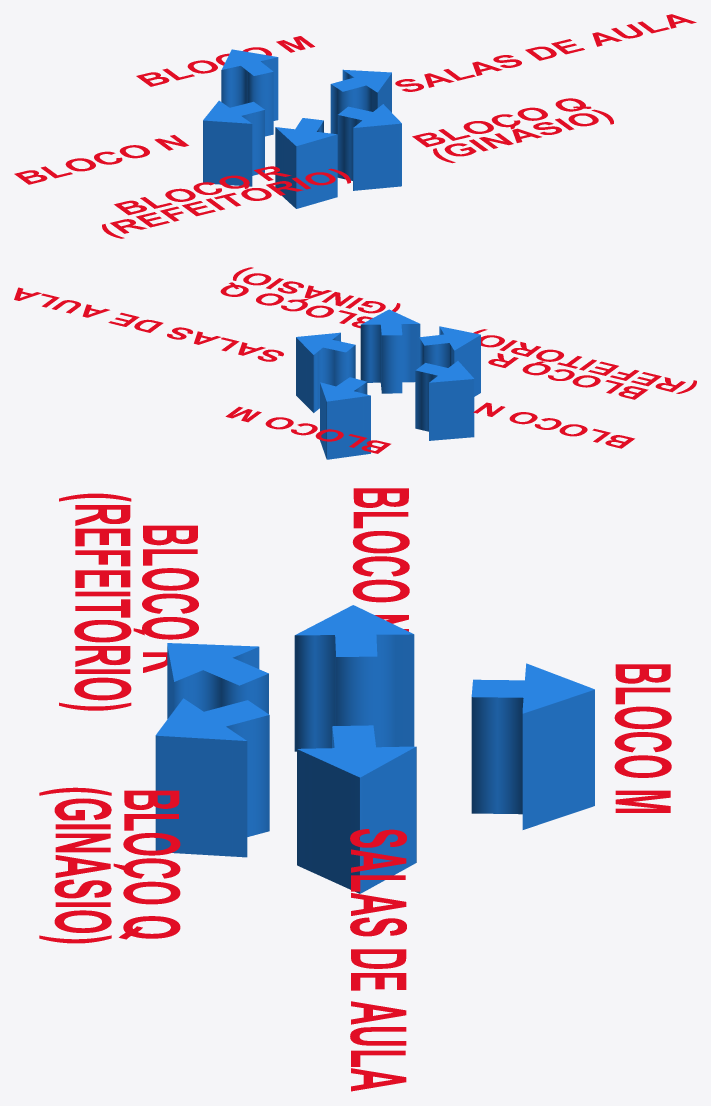
Rendered from Bloco N - 1.glb.
The picture shows the model from 3 angles, top to bottom: view 1: azimuth 30°, elevation 25°; view 2: azimuth 150°, elevation 25°; view 3: azimuth 270°, elevation 25°; orthographic projection. The views are drawn at different scales.
Visible parts, largest first — view 1: Curve.001, Curve.002, Curve.003, Curve.004, Curve.005, Text.012, Text.005, Text.014, Text.002, Text.004, Text.003, Text.001; view 2: Curve.002, Curve.001, Curve.004, Curve.005, Curve.003, Text.012, Text.005, Text.014, Text.001, Text.004, Text.003, Text.002; view 3: Curve.004, Curve.001, Curve.005, Curve.002, Text.012, Text.005, Curve.003, Text.014, Text.001, Text.002, Text.004, Text.003.
Part boxes in pixels (<box>): Curve.001: <box>337,104,401,190</box>; Curve.002: <box>203,100,264,186</box>; Curve.003: <box>275,118,337,208</box>; Curve.004: <box>221,49,278,136</box>; Curve.005: <box>330,69,391,134</box>; Text.012: <box>395,14,696,91</box>; Text.005: <box>102,168,350,238</box>; Text.014: <box>433,109,613,163</box>; Text.002: <box>412,98,591,147</box>; Text.004: <box>114,166,291,215</box>; Text.003: <box>14,135,188,184</box>; Text.001: <box>136,36,314,86</box>; Curve.002: <box>415,361,474,440</box>; Curve.001: <box>360,309,420,393</box>; Curve.004: <box>320,377,370,459</box>; Curve.005: <box>296,332,355,412</box>; Curve.003: <box>419,326,480,396</box>; Text.012: <box>14,287,283,361</box>; Text.005: <box>473,329,696,393</box>; Text.014: <box>233,267,400,313</box>; Text.001: <box>225,406,390,453</box>; Text.004: <box>488,353,648,399</box>; Text.003: <box>473,402,634,448</box>; Text.002: <box>220,282,372,328</box>; Curve.004: <box>471,663,594,829</box>; Curve.001: <box>155,698,269,857</box>; Curve.005: <box>297,725,416,893</box>; Curve.002: <box>294,605,414,751</box>; Text.012: <box>350,829,406,1091</box>; Text.005: <box>59,493,144,710</box>; Curve.003: <box>167,643,268,718</box>; Text.014: <box>39,787,124,943</box>; Text.001: <box>614,664,671,812</box>; Text.002: <box>119,790,180,939</box>; Text.004: <box>142,525,198,672</box>; Text.003: <box>352,488,409,631</box>.
Size of the model in its own units: 3.88 by 0.3522 by 1.72.
